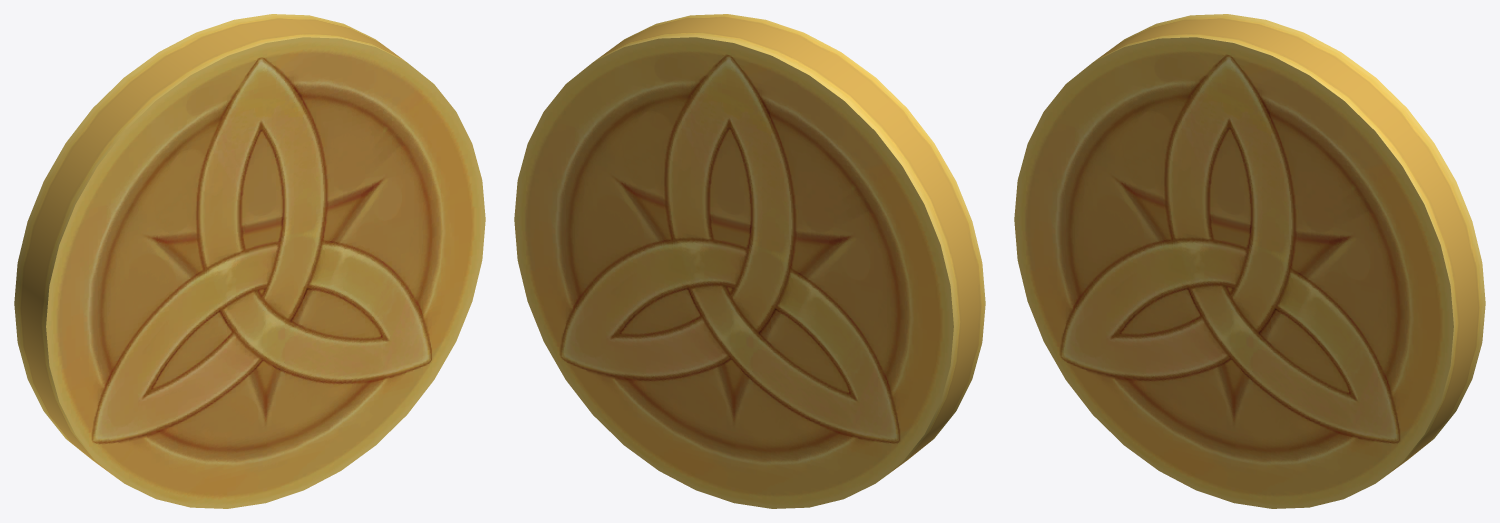
File: Mora.glb
The picture shows the model from 3 angles, left to right: view 1: azimuth 30°, elevation 25°; view 2: azimuth 150°, elevation 25°; view 3: azimuth 330°, elevation 25°; orthographic projection.
Parts seen in each view (by area): view 1: Property_Ani_Prop_MoraBag_01_Vo; view 2: Property_Ani_Prop_MoraBag_01_Vo; view 3: Property_Ani_Prop_MoraBag_01_Vo.
Boxes of the visible parts, x1,y1,x2,y2 form: Property_Ani_Prop_MoraBag_01_Vo: (14, 14, 485, 508); Property_Ani_Prop_MoraBag_01_Vo: (514, 14, 985, 508); Property_Ani_Prop_MoraBag_01_Vo: (1014, 14, 1485, 508).
Bounding box in the file's own units: 0.0749 × 0.0749 × 0.00937.
Materials: 1 (1 with a texture image).
